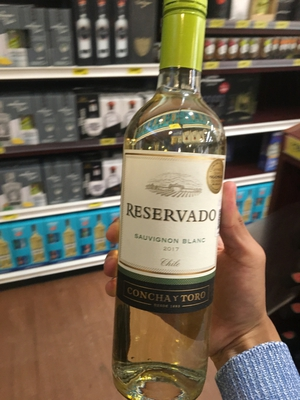reservado sauvignon blanc: (108, 7, 240, 400)
